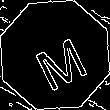M_NW: (23, 22, 87, 88)
